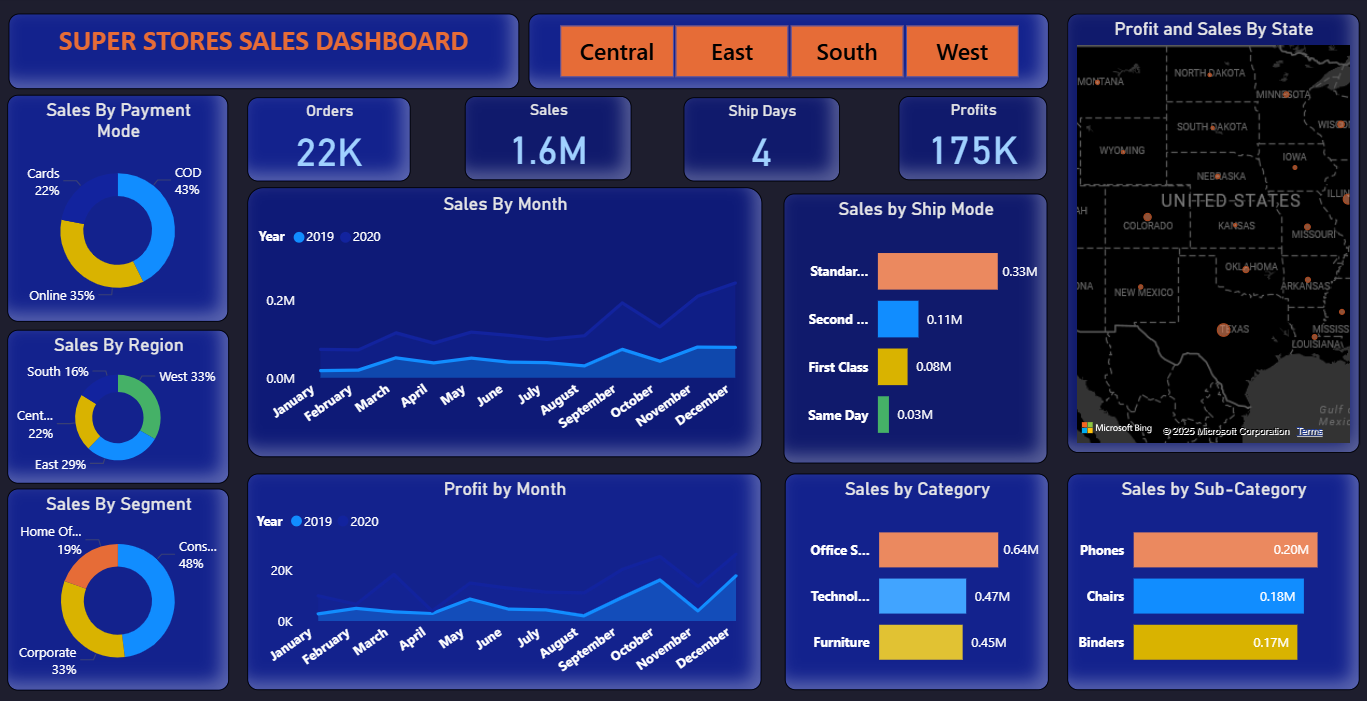

What the dashboard file says about the page in this screenshot:
{"tool":"powerbi","page":{"name":"Page 1","canvas":[1280,660],"ordinal":0},"visuals":[{"type":"clusteredBarChart","title":"Sales by Category","fields":{"Category":["SuperStore_Sales_Dataset.Category"],"Y":["Sum(SuperStore_Sales_Dataset.Sales)"]},"box":[734.3,444.6,245.6,201.5],"z":0},{"type":"clusteredBarChart","title":"Sales by Sub-Category","fields":{"Category":["SuperStore_Sales_Dataset.Sub-Category"],"Y":["Sum(SuperStore_Sales_Dataset.Sales)"]},"box":[996.5,444.6,271.8,201.5],"z":1000},{"type":"clusteredBarChart","title":"Sales by Ship Mode","fields":{"Category":["SuperStore_Sales_Dataset.Ship Mode","SuperStore_Sales_Dataset.Sub-Category"],"Y":["Sum(SuperStore_Sales_Dataset.Sales)"]},"box":[732.8,183.9,245.6,251.1],"z":2000},{"type":"stackedAreaChart","title":"Sales By Month","fields":{"Y":["Sum(SuperStore_Sales_Dataset.Sales)"],"Series":["SuperStore_Sales_Dataset.Order Date.Variation.Date Hierarchy.Year"],"Category":["SuperStore_Sales_Dataset.Order Date.Variation.Date Hierarchy.Month"]},"box":[233.3,177.8,478.9,251.1],"z":3000},{"type":"stackedAreaChart","title":"Profit by Month","fields":{"Series":["SuperStore_Sales_Dataset.Order Date.Variation.Date Hierarchy.Year"],"Category":["SuperStore_Sales_Dataset.Order Date.Variation.Date Hierarchy.Month"],"Y":["Sum(SuperStore_Sales_Dataset.Profit)"]},"box":[233.6,444.6,478,201.5],"z":4000},{"type":"map","title":"Profit and Sales By State","fields":{"Category":["SuperStore_Sales_Dataset.State"],"Size":["Sum(SuperStore_Sales_Dataset.Sales)"]},"box":[996.2,16.5,271.7,408.9],"z":5000},{"type":"donutChart","title":"Sales By Payment Mode","fields":{"Category":["SuperStore_Sales_Dataset.Payment Mode"],"Y":["Sum(SuperStore_Sales_Dataset.Sales)"]},"box":[11,91.9,205.8,211.3],"z":6000},{"type":"textbox","box":[11.2,16.2,475,70],"z":7000},{"type":"card","title":"Sales","fields":{"Values":["Sum(SuperStore_Sales_Dataset.Sales)"]},"box":[436.4,93.3,155.1,78.2],"z":8000},{"type":"card","title":"Orders","fields":{"Values":["Sum(SuperStore_Sales_Dataset.Quantity)"]},"box":[233.3,94.7,152.3,78.2],"z":9000},{"type":"card","title":"Profits","fields":{"Values":["Sum(SuperStore_Sales_Dataset.Profit)"]},"box":[839.8,93.3,138.6,78.2],"z":10000},{"type":"card","title":"Ship Days","fields":{"Values":["Avg(SuperStore_Sales_Dataset.AvgDelivery)"]},"box":[639.5,94.7,145.5,78.2],"z":11000},{"type":"slicer","fields":{"Values":["SuperStore_Sales_Dataset.Region"]},"box":[495,16.2,483.8,70],"z":12000},{"type":"donutChart","title":"Sales By Region","fields":{"Y":["Sum(SuperStore_Sales_Dataset.Sales)"],"Category":["SuperStore_Sales_Dataset.Region"]},"box":[10.7,309.9,206.2,143],"z":13000},{"type":"donutChart","title":"Sales By Segment","fields":{"Category":["SuperStore_Sales_Dataset.Segment"],"Y":["Sum(SuperStore_Sales_Dataset.Sales)"]},"box":[10.7,457.7,206.2,188.3],"z":14000}]}

Visuals, with their boxes in screenshot pixels (x1, y1, x2, y2), scaled from the page's 1280x660 canvas onto the 1367x701 screenshot:
"Sales by Category" clusteredBarChart: [784, 472, 1047, 686]
"Sales by Sub-Category" clusteredBarChart: [1064, 472, 1355, 686]
"Sales by Ship Mode" clusteredBarChart: [783, 195, 1045, 462]
"Sales By Month" stackedAreaChart: [249, 189, 761, 456]
"Profit by Month" stackedAreaChart: [249, 472, 760, 686]
"Profit and Sales By State" map: [1064, 18, 1354, 452]
"Sales By Payment Mode" donutChart: [12, 98, 232, 322]
textbox: [12, 17, 519, 92]
"Sales" card: [466, 99, 632, 182]
"Orders" card: [249, 101, 412, 184]
"Profits" card: [897, 99, 1045, 182]
"Ship Days" card: [683, 101, 838, 184]
slicer - SuperStore_Sales_Dataset.Region: [529, 17, 1045, 92]
"Sales By Region" donutChart: [11, 329, 232, 481]
"Sales By Segment" donutChart: [11, 486, 232, 686]
